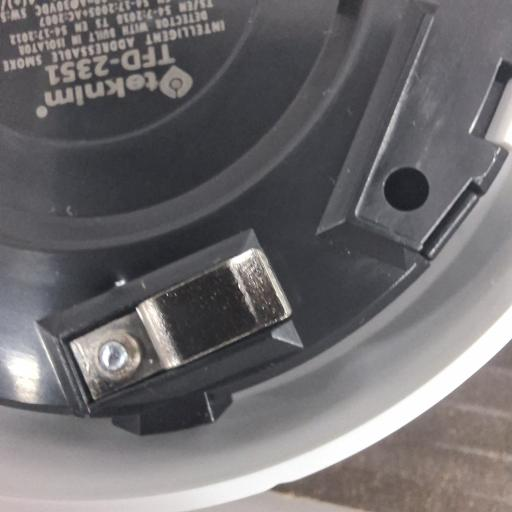yaysiz: (49, 245, 296, 412)
